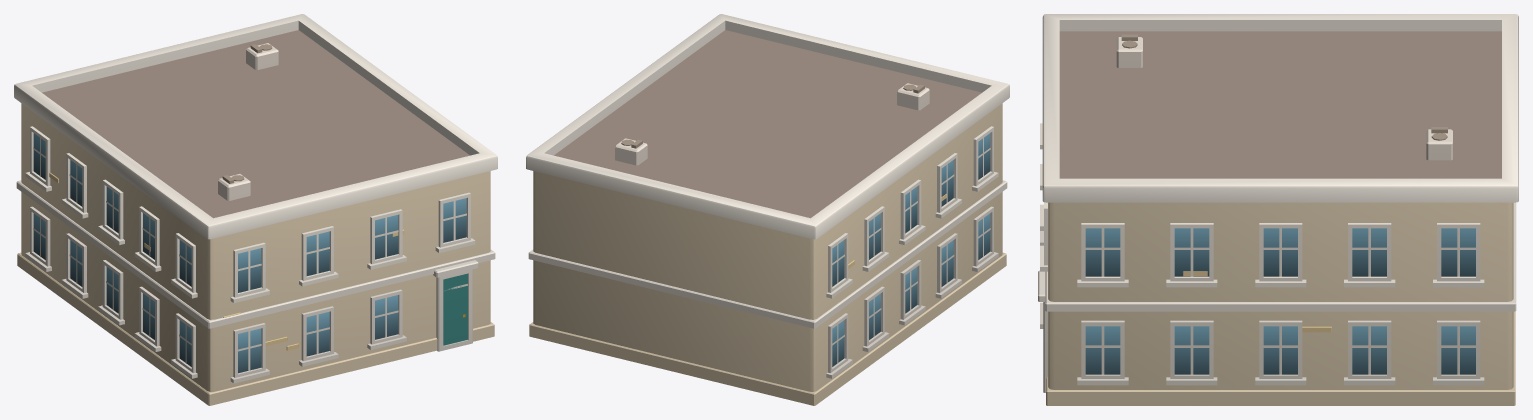
Rendered from boylston_s7.glb.
3 views of the same model, side by side, from view 1: azimuth 30°, elevation 25°; view 2: azimuth 150°, elevation 25°; view 3: azimuth 270°, elevation 25° (orthographic). The views are drawn at different scales.
Parts seen in each view (by area): view 1: boylston_s7; view 2: boylston_s7; view 3: boylston_s7.
Boxes of the visible parts, x1=… form: boylston_s7: x1=14, y1=14, x2=497, y2=405; boylston_s7: x1=526, y1=14, x2=1009, y2=405; boylston_s7: x1=1038, y1=14, x2=1518, y2=405.
Size of the model in its own units: 12.48 by 7.71 by 14.46.
Materials: 1 (1 with a texture image).
